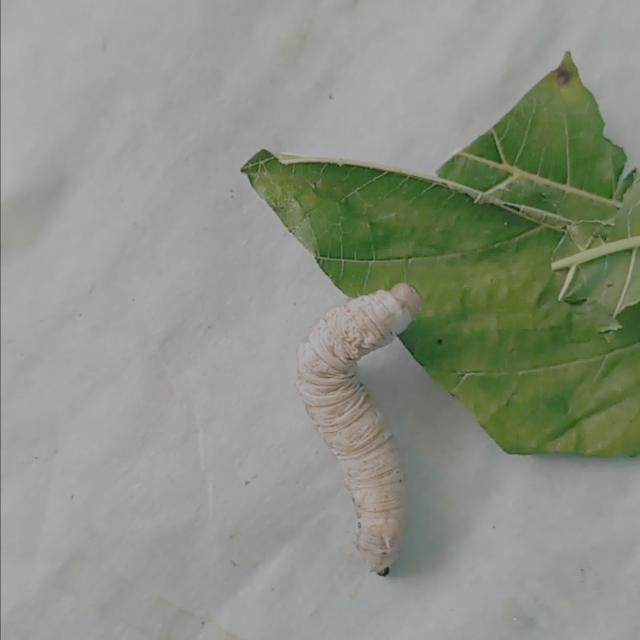Grasserie: (243, 236, 462, 586)
